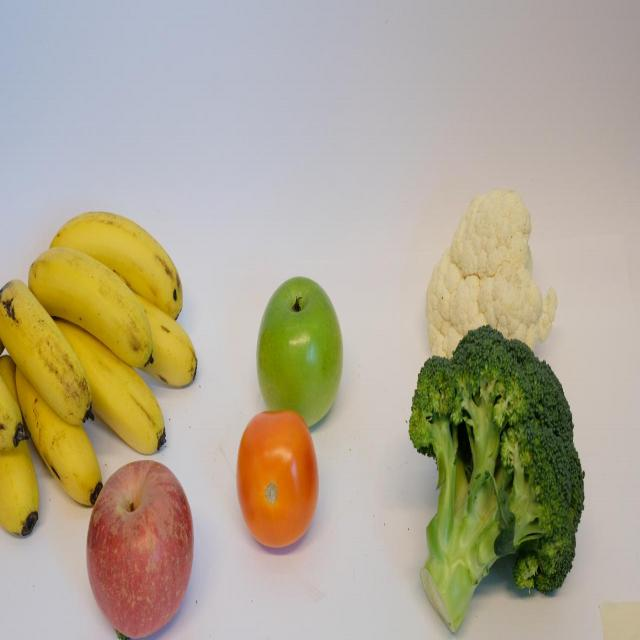apple: (84, 449, 196, 639), (252, 260, 352, 440)
banana: (41, 302, 173, 459), (32, 237, 157, 376), (46, 195, 188, 317), (0, 259, 94, 434), (12, 361, 110, 503)
broccoli: (400, 321, 586, 638)
cauliflower: (418, 173, 560, 382)
tomato: (236, 400, 320, 560)
